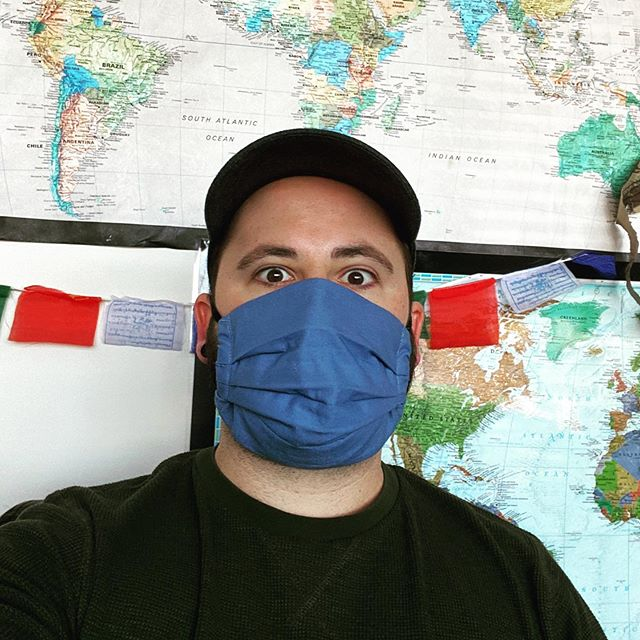homemade: (197, 290, 444, 467)
